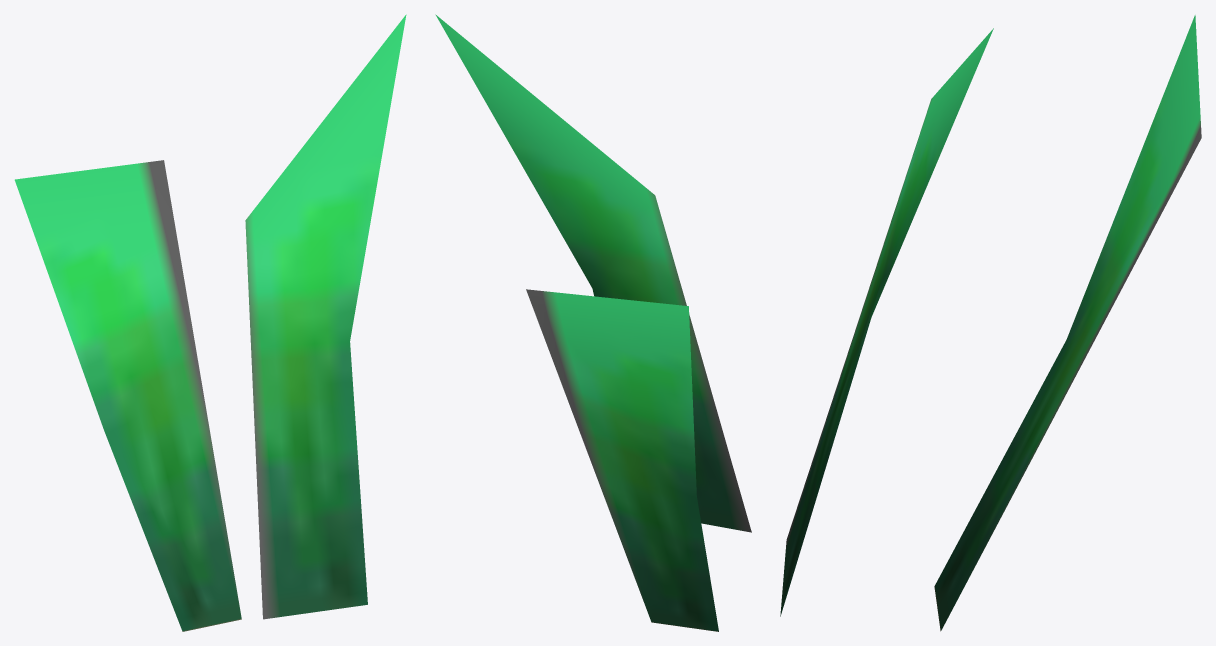
The model's file is fg_grassC.dae.
3 renders of one model, left to right at view 1: azimuth 30°, elevation 25°; view 2: azimuth 150°, elevation 25°; view 3: azimuth 270°, elevation 25°, orthographic. The views are drawn at different scales.
Visible parts, largest first — view 1: fg_grassC; view 2: fg_grassC; view 3: fg_grassC.
Part boxes in pixels (bbox=[...]): fg_grassC: bbox=[14, 14, 406, 631]; fg_grassC: bbox=[435, 14, 751, 631]; fg_grassC: bbox=[780, 15, 1201, 631].
Bounding box in the file's own units: 14.53 × 23.97 × 12.64.
Materials: 1 (1 with a texture image).
